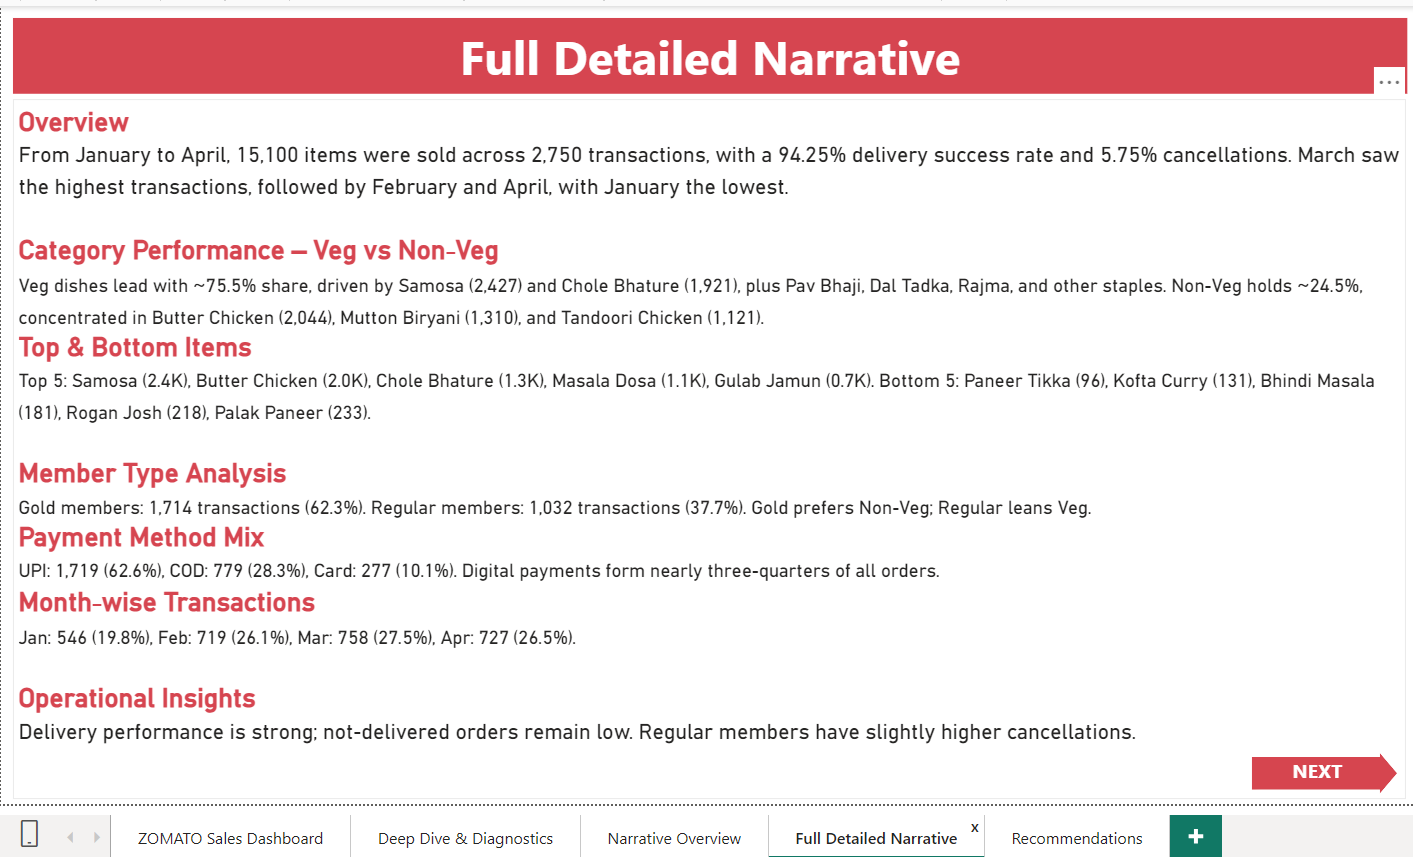

The dashboard page shown, as its layout file describes it:
{"tool":"powerbi","page":{"name":"Full Detailed Narrative","canvas":[1280,720],"ordinal":3},"visuals":[{"type":"textbox","box":[10.5,10.5,1258.7,68.1],"z":0},{"type":"textbox","box":[10.5,83.8,1258.7,632],"z":1000},{"type":"shape","box":[1119.8,665.4,149.3,55],"z":2000}]}

Visuals, with their boxes on the page's 1280x720 design canvas (x1, y1, x2, y2). These are canvas units, not pixel positions in the 1413x857 screenshot, which may show the page scaled, cropped or inside an application window:
textbox: [10,10,1269,79]
textbox: [10,84,1269,716]
shape: [1120,665,1269,720]
